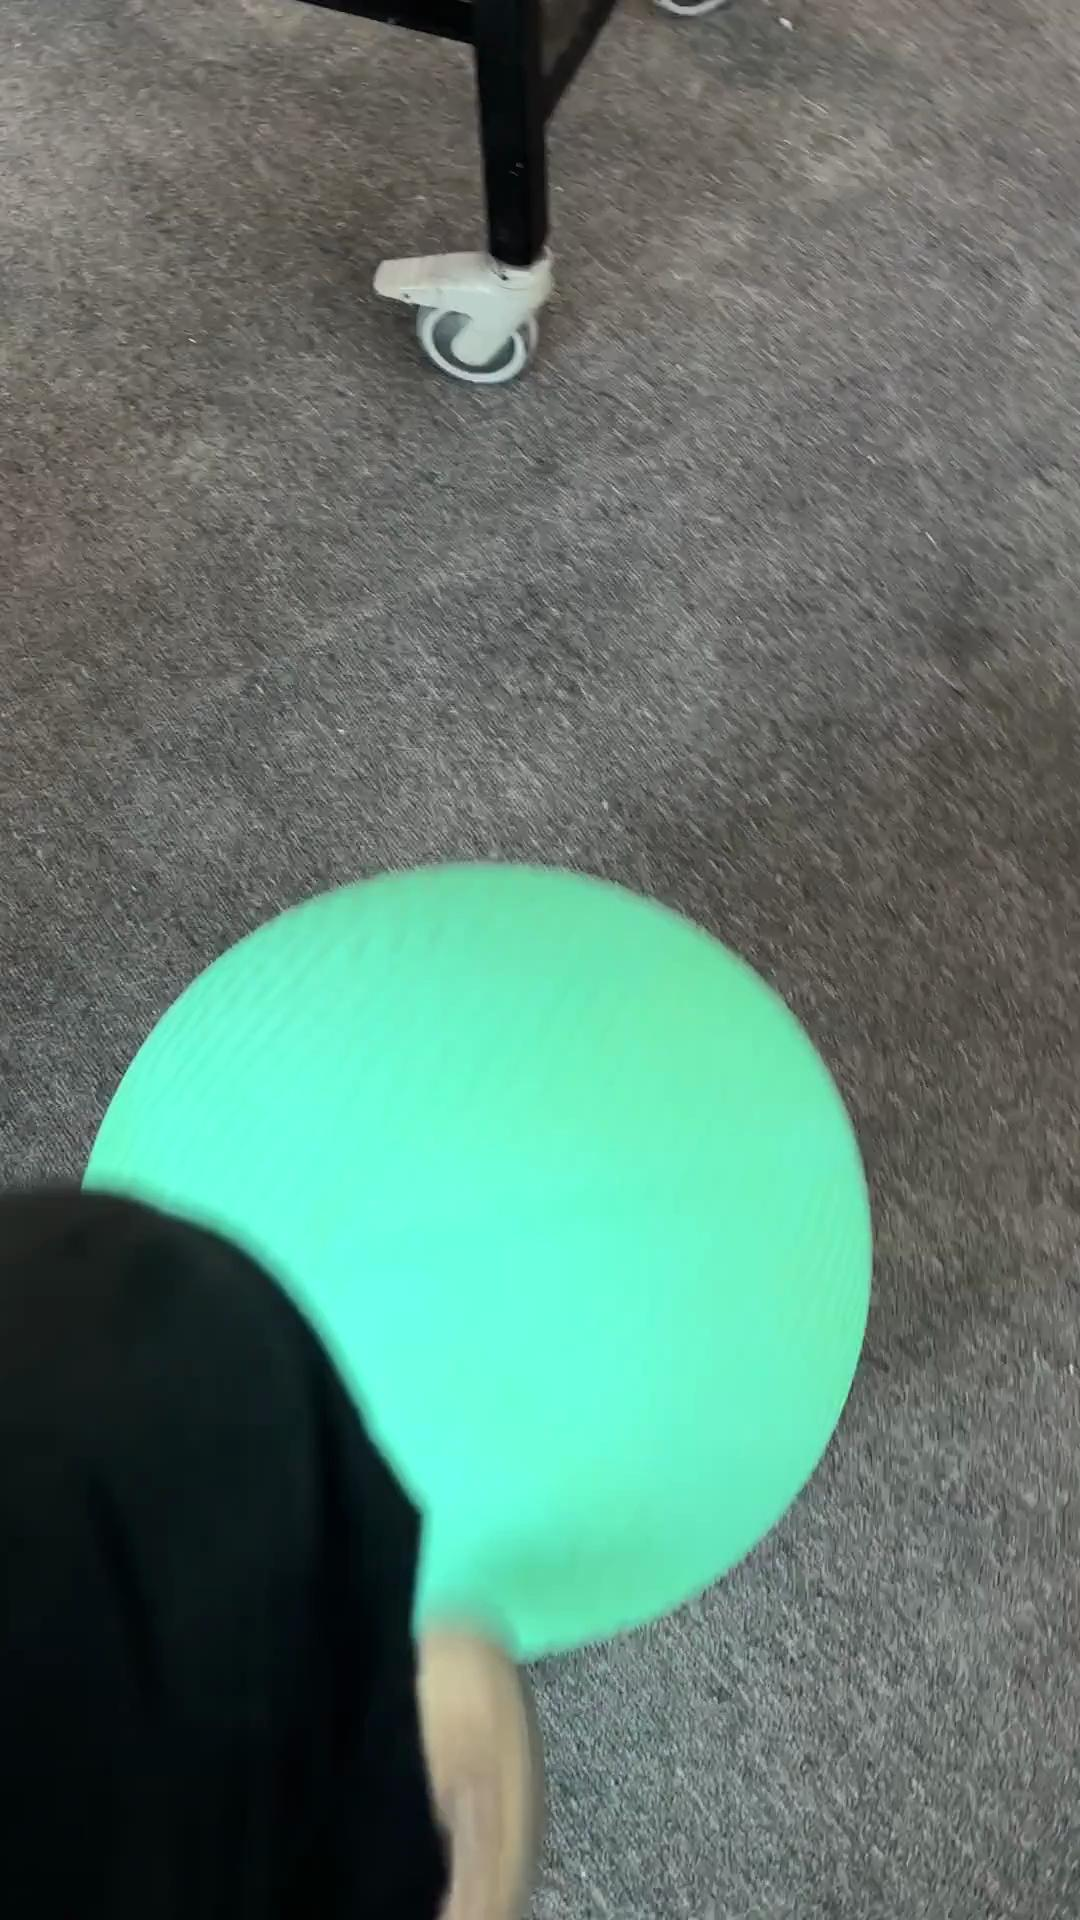ALGAE: (78, 857, 876, 1665)
